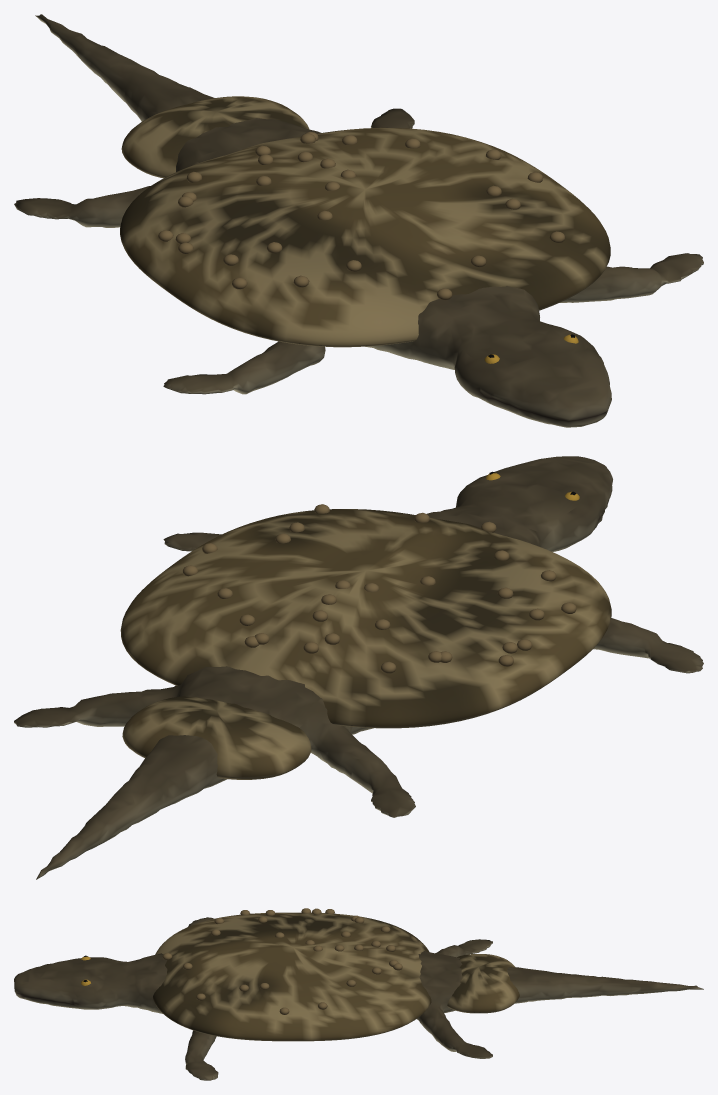
The model's file is Cyamodus.fbx.
3 renders of one model, top to bottom at view 1: azimuth 30°, elevation 25°; view 2: azimuth 150°, elevation 25°; view 3: azimuth 270°, elevation 25°, orthographic. The views are drawn at different scales.
Parts seen in each view (by area): view 1: Cyamodus; view 2: Cyamodus; view 3: Cyamodus.
Part boxes in pixels (bbox=[...]): Cyamodus: bbox=[14, 14, 703, 427]; Cyamodus: bbox=[14, 456, 703, 879]; Cyamodus: bbox=[14, 908, 703, 1080].
Bounding box in the file's own units: 1.08 × 0.1908 × 1.93.
